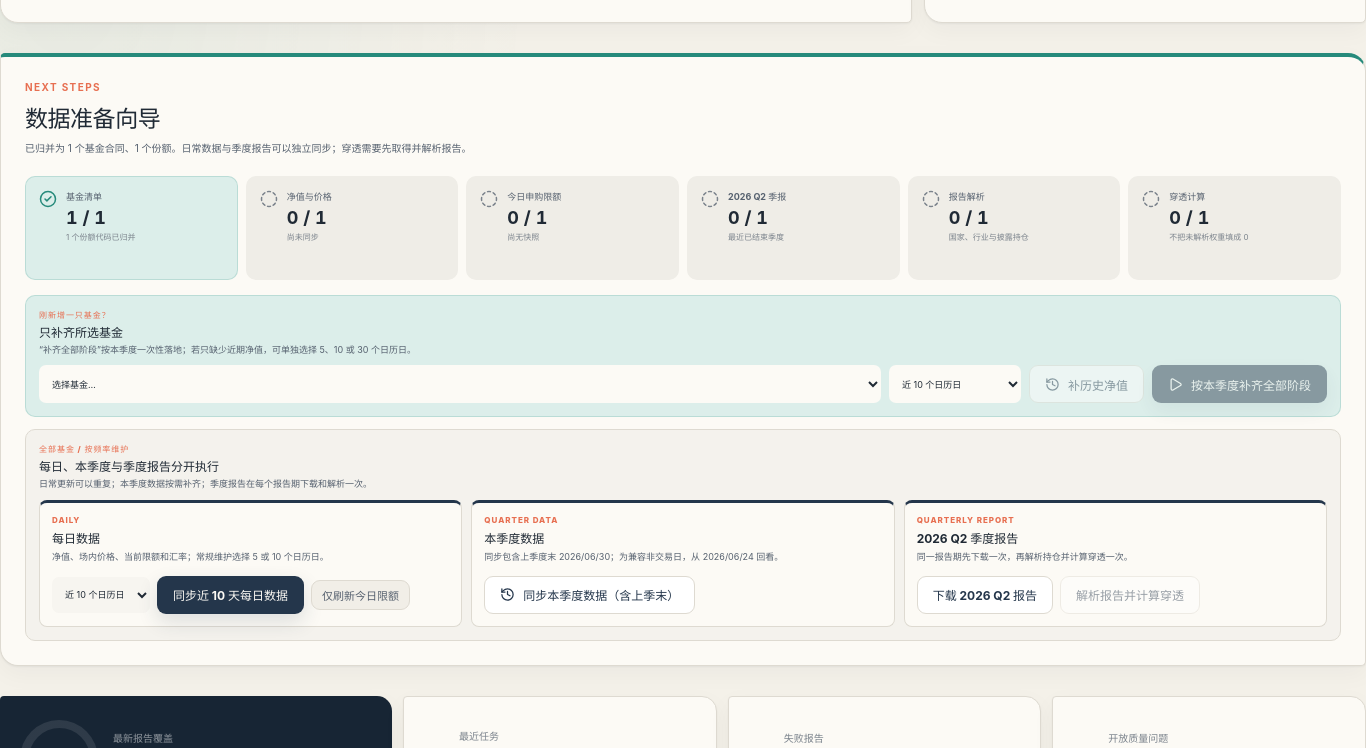
it: DataOpsPage purchase-limit coverage › guides the user from imported funds into an explicit preparation workflow
(page scrolled)
Check: the heading "数据准备向导" is shown, box [25, 106, 160, 132]
Check: the text "净值与价格" is shown, box [287, 190, 332, 203]
Select "900001 · 示例全球科技基金" in the dropdown named "选择要补齐的基金" at (460, 384), box [39, 365, 881, 403]
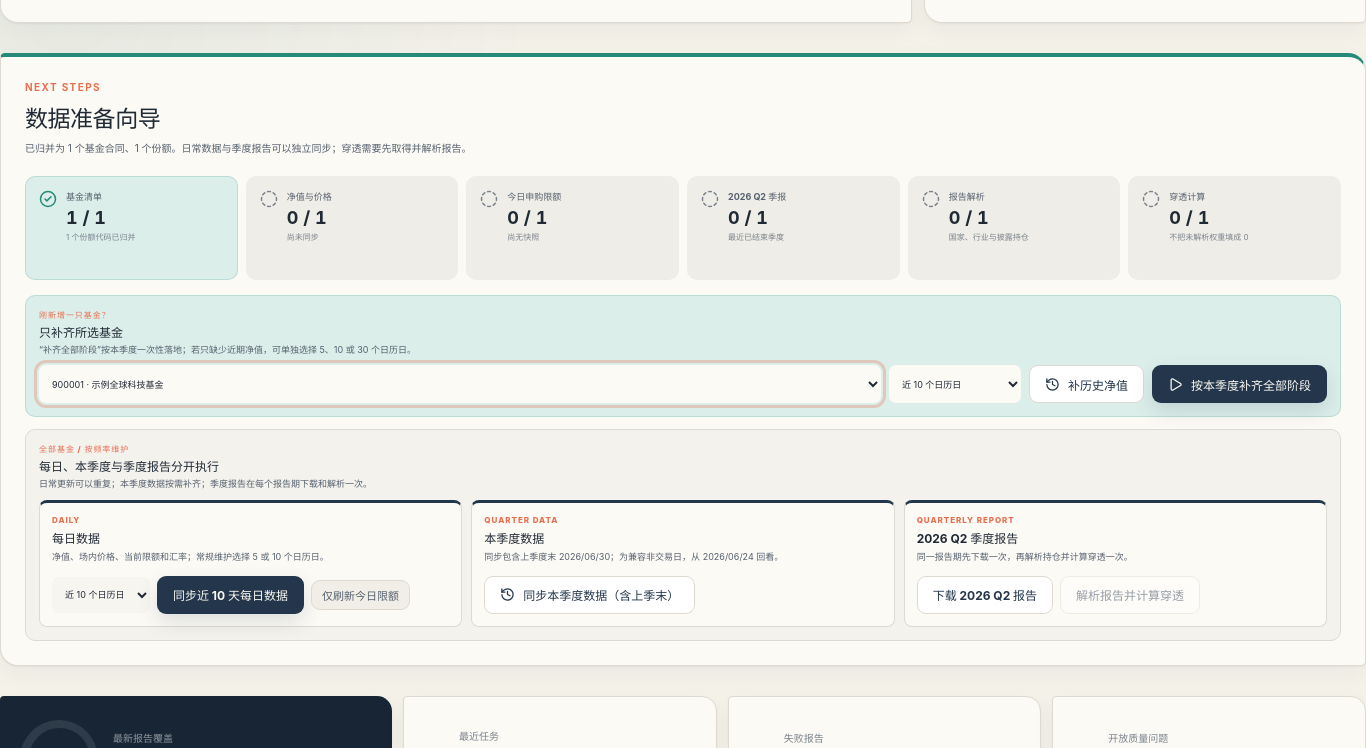
Click the button "按本季度补齐全部阶段" at (1240, 384), box [1152, 365, 1327, 403]
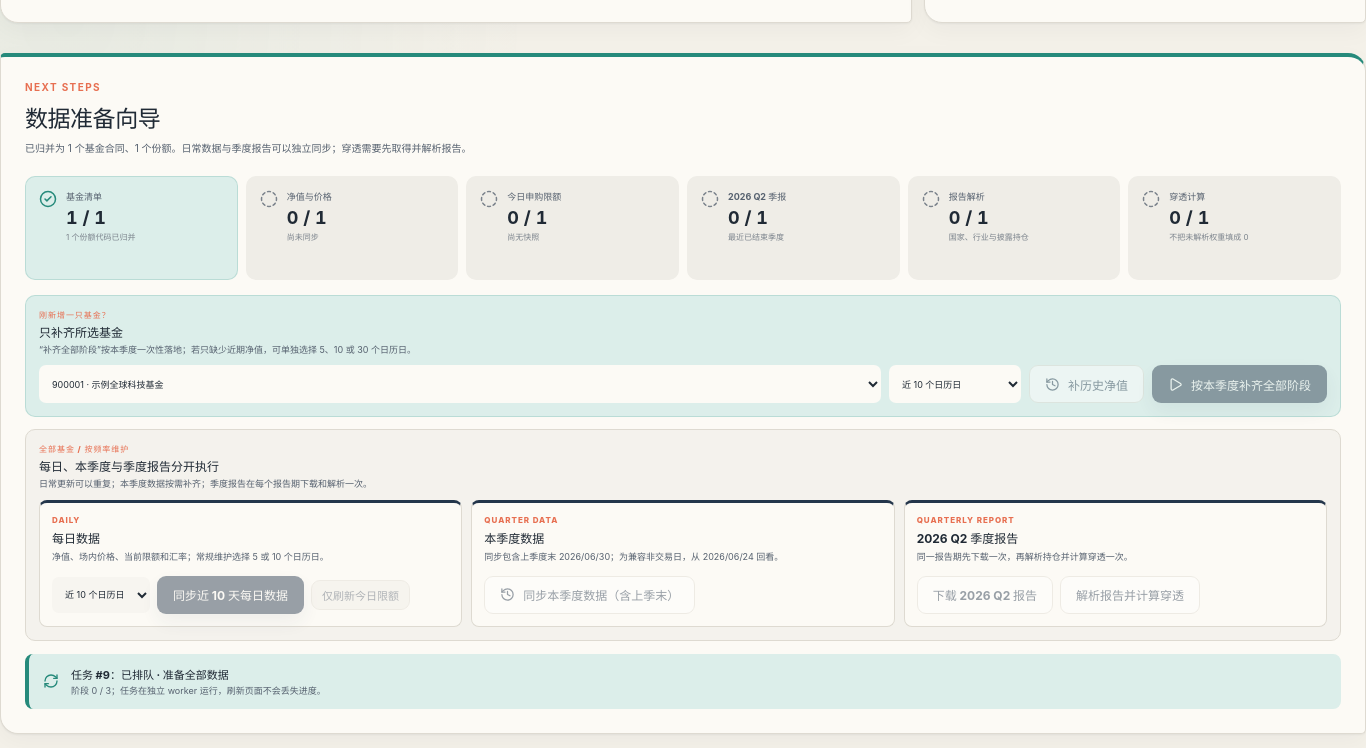
Check: the text "任务 #9：已排队 · 准备全部数据" is shown, box [71, 666, 229, 682]
Check: the text "阶段 0 / 3；任务在独立 worker 运行，刷新页面不会丢失进度。" is shown, box [71, 684, 326, 697]
